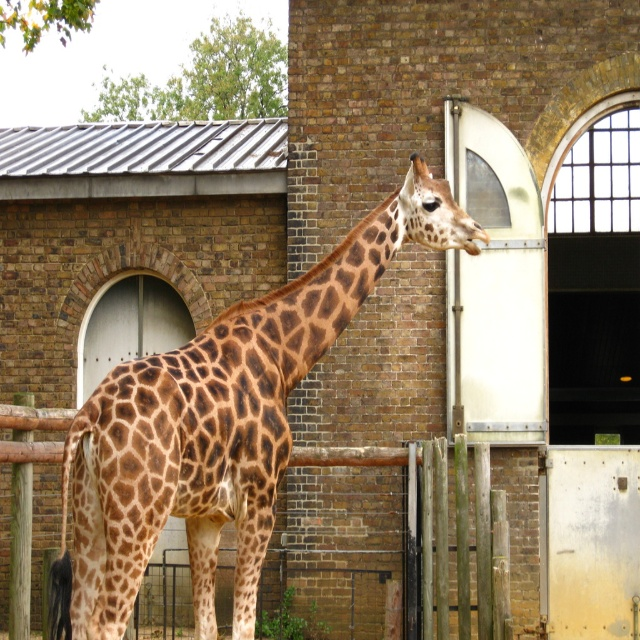Giraffe: (49, 149, 489, 639)
